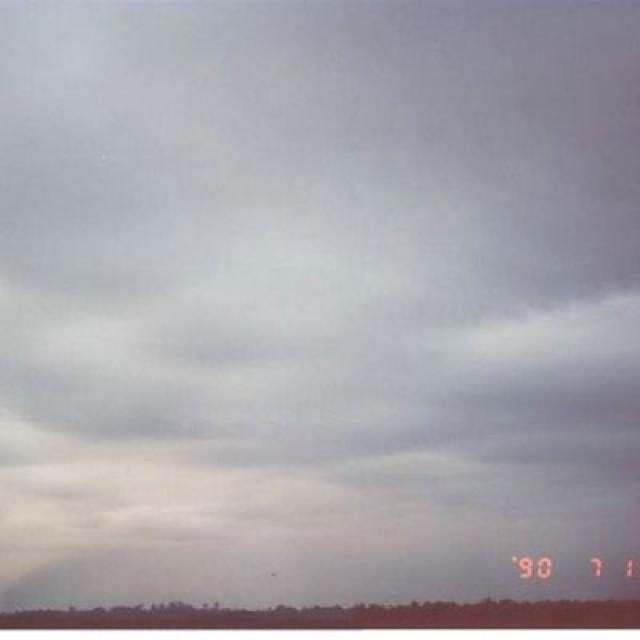Ns: (1, 100, 640, 503)
